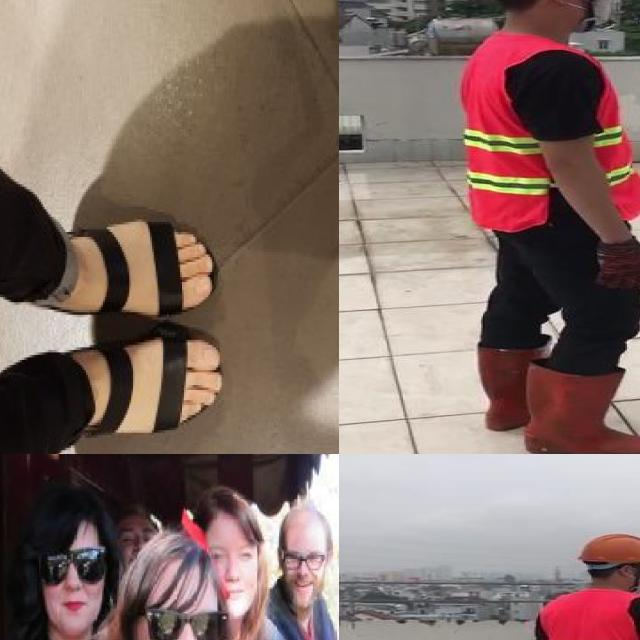Sandals: (14, 220, 220, 318), (45, 331, 225, 437)
boots: (529, 360, 640, 454), (478, 345, 548, 433)
face_nomask: (40, 551, 100, 611), (204, 546, 258, 605), (140, 608, 223, 640), (283, 546, 324, 596)
glasses: (35, 543, 108, 591), (142, 606, 224, 640), (278, 546, 326, 576)
hand_glove: (596, 239, 640, 288)
head_helmet: (451, 0, 640, 454), (572, 530, 640, 569)
head_nohelmet: (129, 526, 223, 599), (28, 493, 109, 537), (191, 489, 258, 526), (277, 504, 332, 534)
person: (0, 525, 294, 640), (516, 523, 640, 640)
vest: (462, 34, 640, 227), (539, 590, 640, 640)
